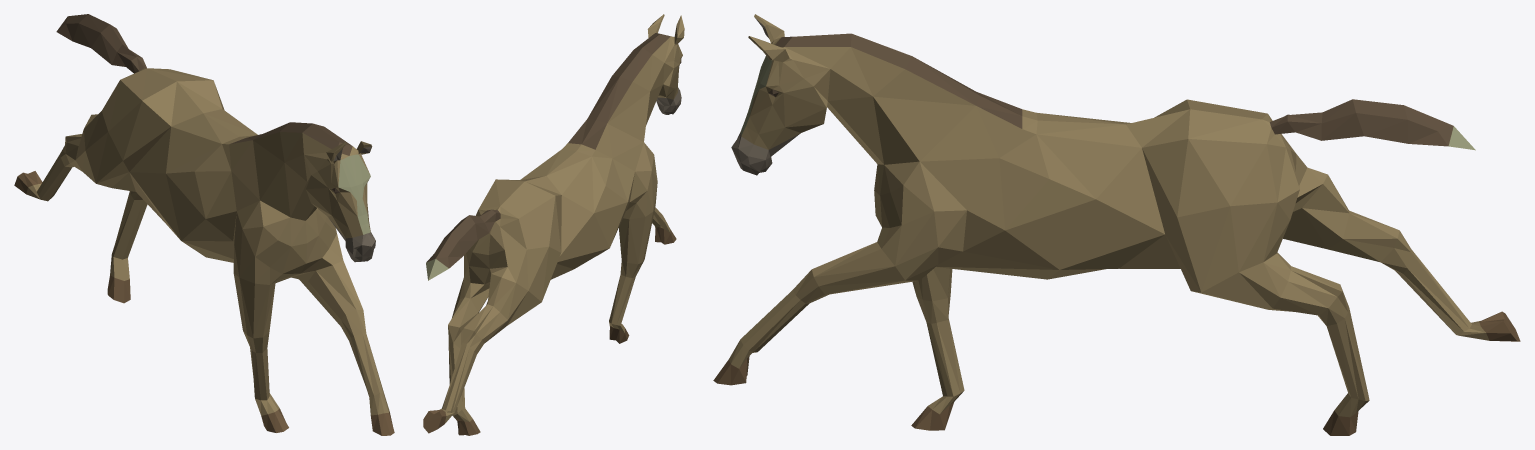
Rendered from horse.gltf.
3 views of the same model, side by side, from view 1: azimuth 30°, elevation 25°; view 2: azimuth 150°, elevation 25°; view 3: azimuth 270°, elevation 25° (orthographic). The views are drawn at different scales.
Visible parts, largest first — view 1: horse.js; view 2: horse.js; view 3: horse.js.
Part boxes in pixels (x1,y1,x2,y2): horse.js: (14, 14, 394, 435); horse.js: (423, 14, 684, 435); horse.js: (713, 14, 1520, 435).
Size of the model in its own units: 61.1 by 182 by 322.
